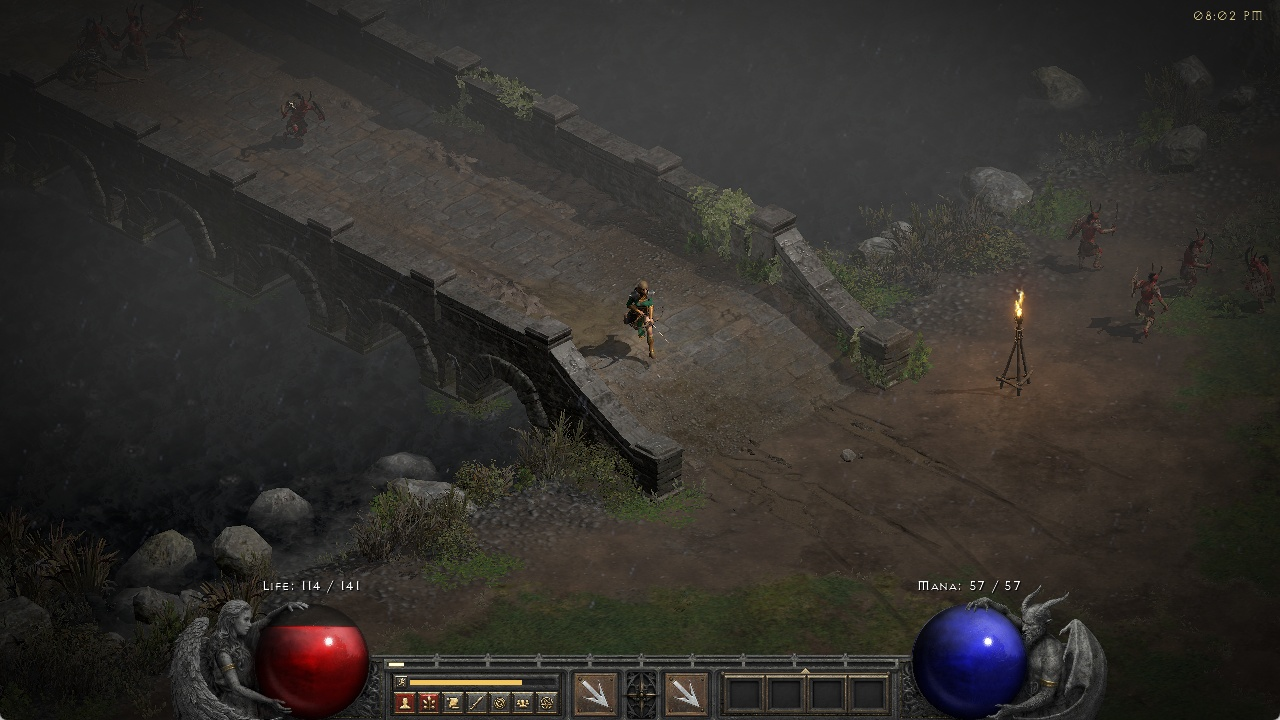fallen: (1066, 198, 1118, 272), (1129, 262, 1171, 342), (1238, 245, 1280, 312), (108, 6, 156, 64), (276, 89, 328, 141), (1179, 225, 1217, 296), (164, 2, 209, 58), (81, 15, 106, 46)
